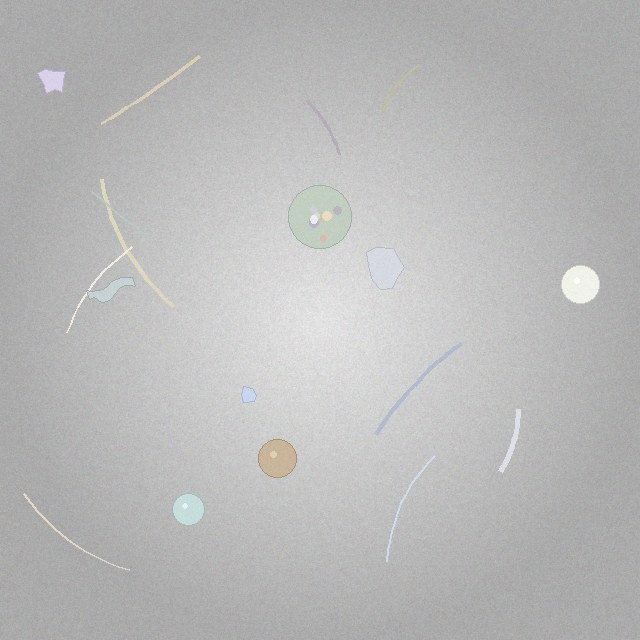fiber: (97, 175, 178, 311), (371, 340, 465, 438), (21, 491, 133, 573), (98, 53, 203, 127), (65, 246, 134, 335), (384, 453, 438, 564), (89, 188, 155, 242), (304, 97, 343, 157), (495, 404, 524, 477), (379, 64, 420, 115), (162, 415, 181, 459)
film: (87, 277, 136, 303)
foam: (288, 186, 351, 249)
fragment: (366, 247, 405, 290), (38, 69, 65, 93), (242, 386, 256, 403)
pellet: (562, 266, 600, 304), (258, 440, 296, 477), (172, 494, 204, 526)
